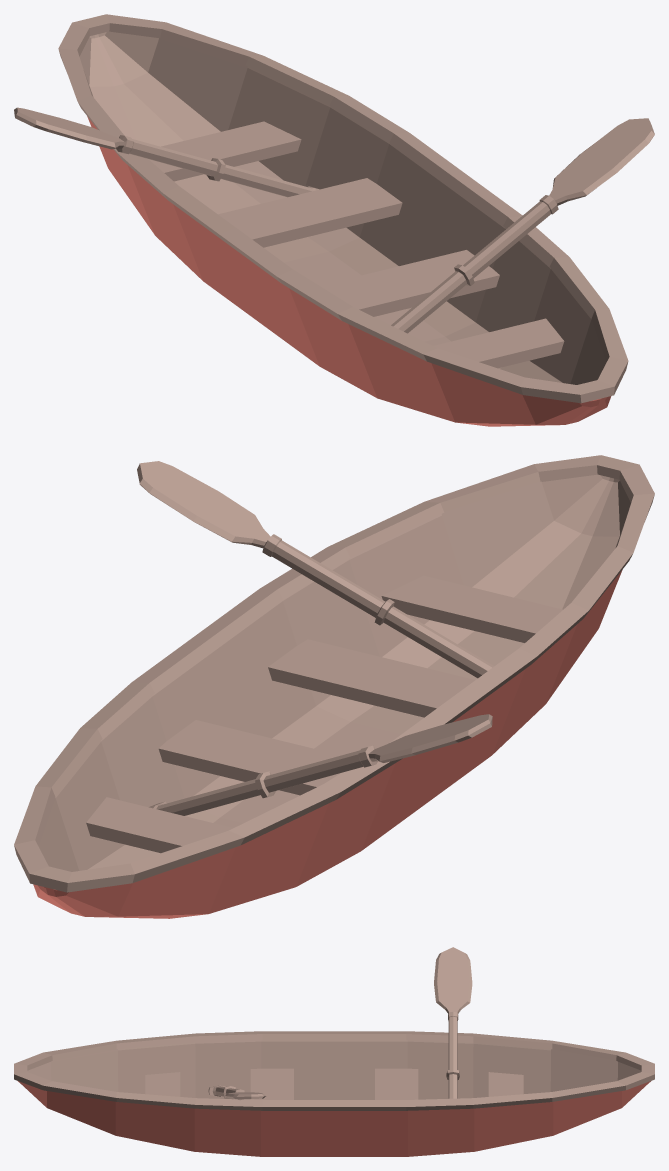
The model's file is scene_ealonqCOkf.glb.
3 renders of one model, top to bottom at view 1: azimuth 30°, elevation 25°; view 2: azimuth 150°, elevation 25°; view 3: azimuth 270°, elevation 25°, orthographic. The views are drawn at different scales.
Visible parts, largest first — view 1: Canoe_Cube.026; view 2: Canoe_Cube.026; view 3: Canoe_Cube.026.
Part boxes in pixels (x1,y1,x2,y2): Canoe_Cube.026: (14,14,654,426); Canoe_Cube.026: (14,455,654,918); Canoe_Cube.026: (14,947,654,1156).
Size of the model in its own units: 14.17 by 5.39 by 26.23.
